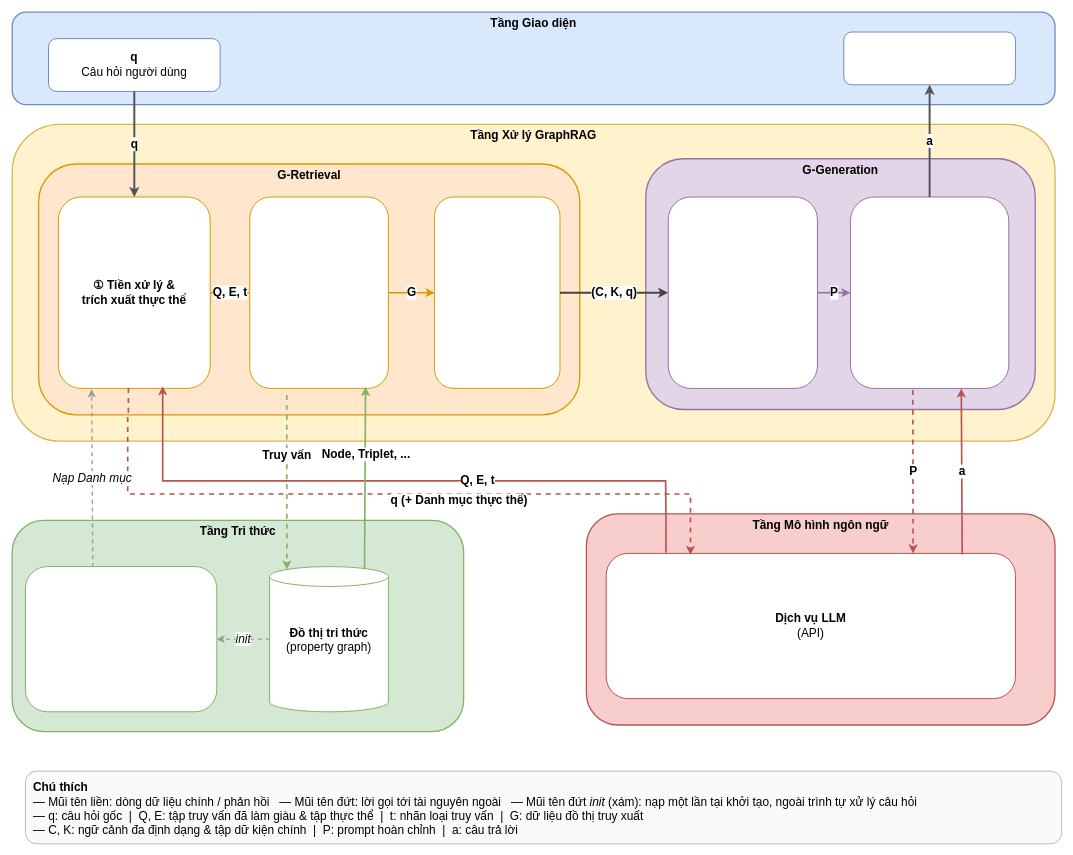
Image size: 1073x855. Some labels were removed from this diagram. Here are the shapes that lost their labels. From the top down, the centre of each, then its label:
At point 929,58: "a Câu trả lời".
At point 319,292: "② Truy vấn đa mức độ Node | Triplet Path | Subgraph".
At point 497,292: "③ Tổ chức ngữ cảnh Văn bản tự nhiên Bảng kề | JSON Chuỗi nút".
At point 742,292: "① Xây dựng Prompt P".
At point 929,292: "② Chiến lược tạo sinh Pre | Mid | Post".
At point 121,639: "Danh mục thực thể".
